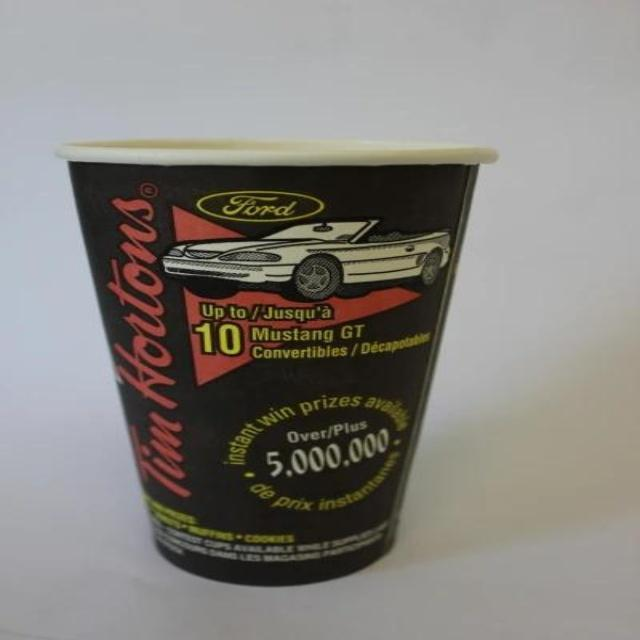timmies: (53, 134, 500, 590)
